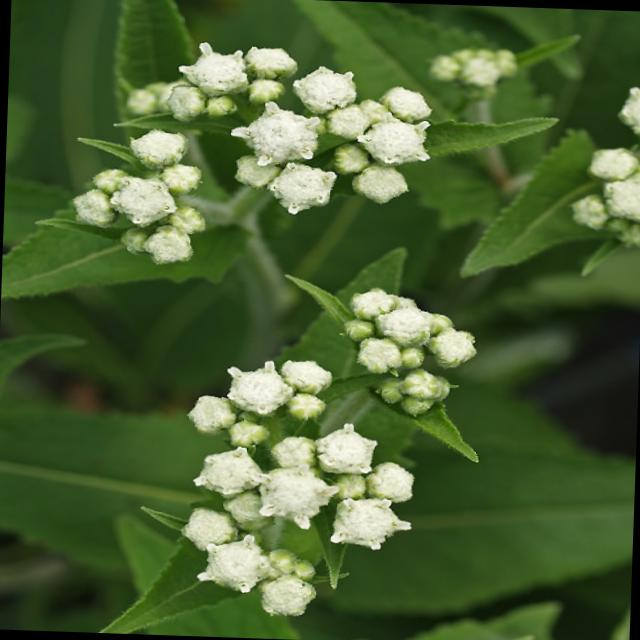Poisonous-Parthenium: (59, 32, 640, 312), (105, 252, 528, 630)
